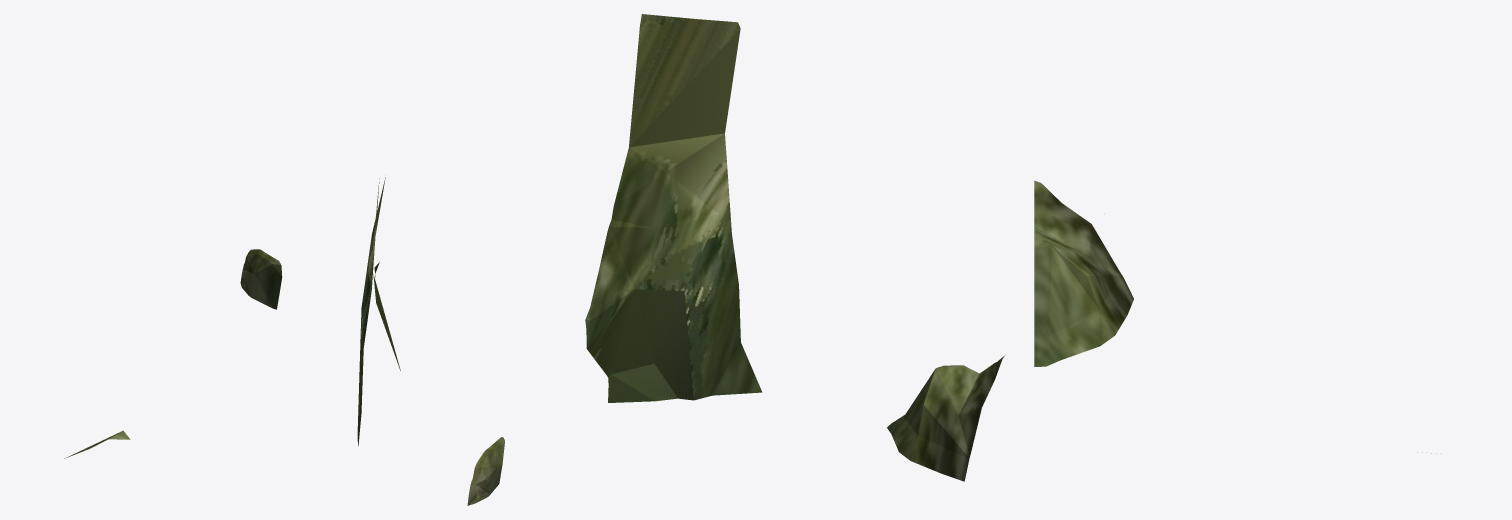
3 renders of one model, left to right at view 1: azimuth 30°, elevation 25°; view 2: azimuth 150°, elevation 25°; view 3: azimuth 270°, elevation 25°, orthographic. The views are drawn at different scales.
Size of the model in its own units: 2.95 by 2.95 by 2.79.
2 materials, 2 textured.
